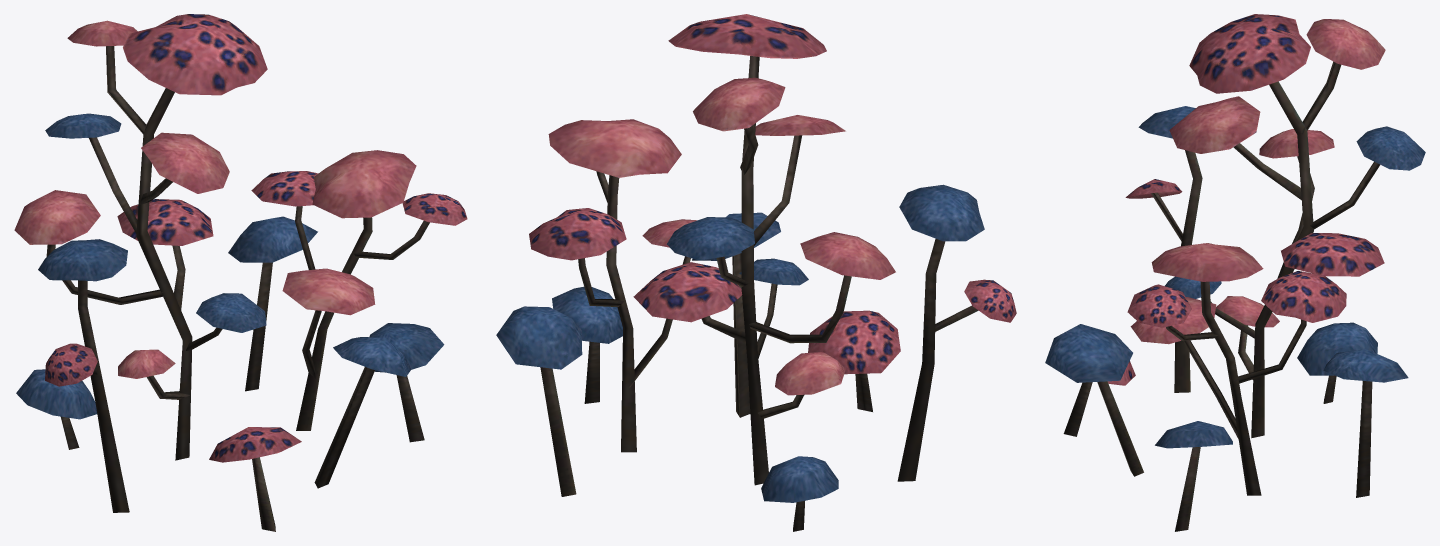
File: mushroom_01.fbx
3 renders of one model, left to right at view 1: azimuth 30°, elevation 25°; view 2: azimuth 150°, elevation 25°; view 3: azimuth 270°, elevation 25°, orthographic. The views are drawn at different scales.
Parts seen in each view (by area): view 1: Mushroom_01; view 2: Mushroom_01; view 3: Mushroom_01.
Part boxes in pixels (box(x1,y1,x2,y2)): Mushroom_01: box(14, 14, 467, 531); Mushroom_01: box(496, 14, 1016, 531); Mushroom_01: box(1045, 14, 1425, 531).
Size of the model in its own units: 3.58 by 3.49 by 2.91.
